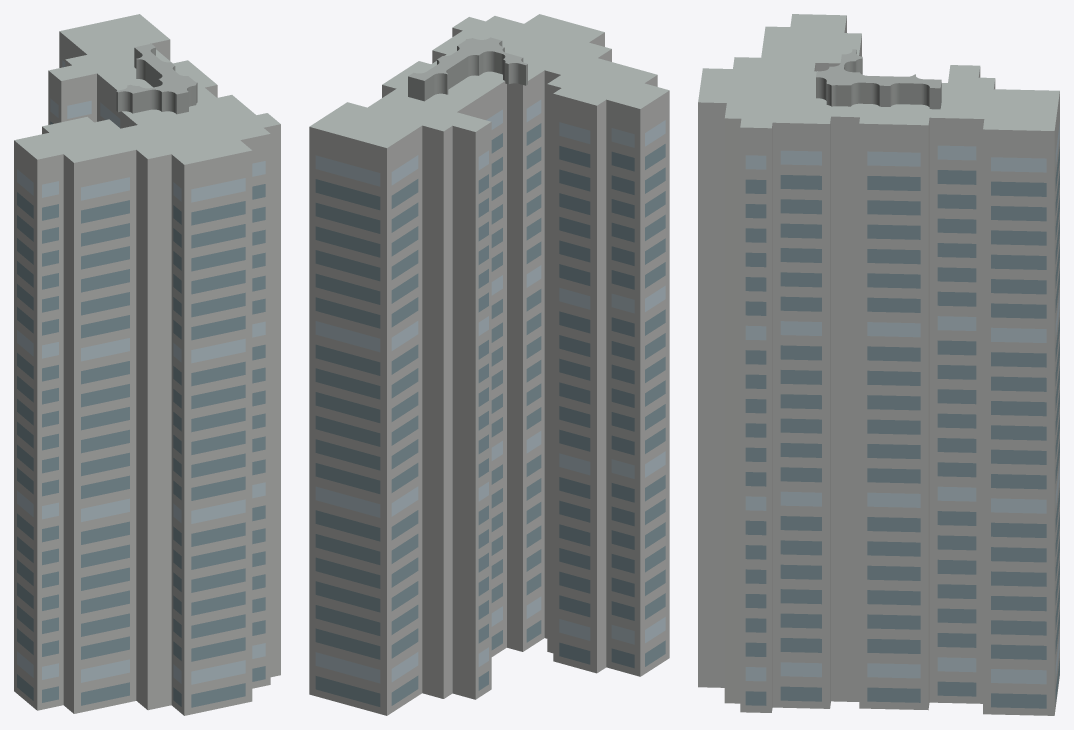
File: fallback-mapo-raemian-prugio-412.glb
3 renders of one model, left to right at view 1: azimuth 30°, elevation 25°; view 2: azimuth 150°, elevation 25°; view 3: azimuth 270°, elevation 25°, orthographic. The views are drawn at different scales.
Parts seen in each view (by area): view 1: fallback-mapo-raemian-prugio-412; view 2: fallback-mapo-raemian-prugio-412; view 3: fallback-mapo-raemian-prugio-412.
Boxes of the visible parts, left/top/right/bottom form: fallback-mapo-raemian-prugio-412: left=14, top=14, right=280, bottom=715; fallback-mapo-raemian-prugio-412: left=309, top=14, right=669, bottom=715; fallback-mapo-raemian-prugio-412: left=698, top=14, right=1059, bottom=715.
Size of the model in its own units: 28.61 by 69 by 37.35.
